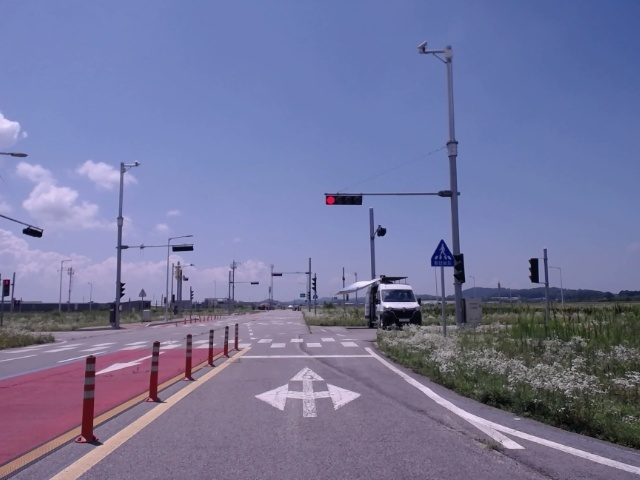red_4: (326, 196, 362, 206)
